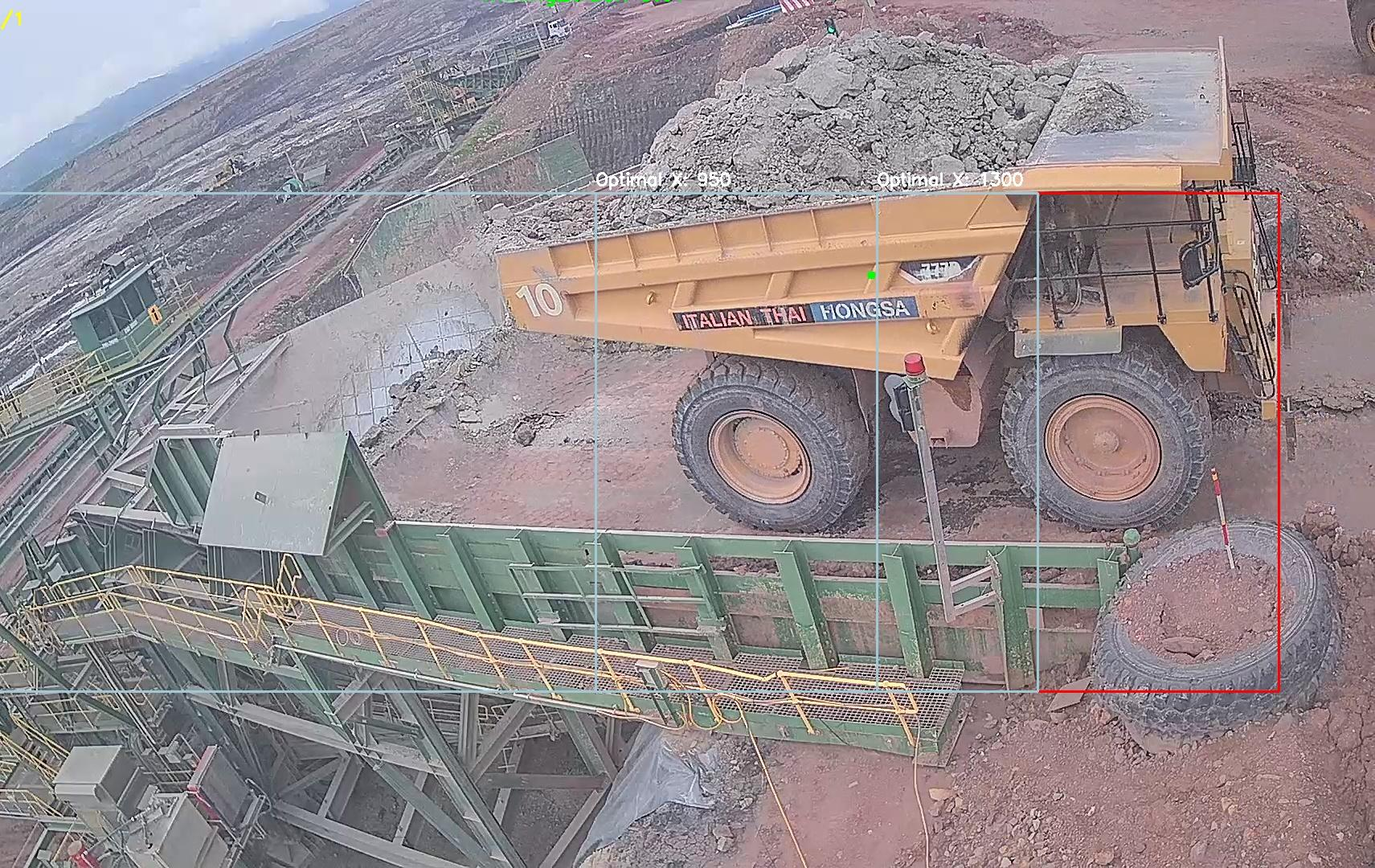company: (665, 290, 926, 338)
full_load: (681, 26, 1024, 215)
mining_truck: (481, 13, 1317, 533)
tail_number: (505, 271, 574, 332)
truck_size: (900, 250, 979, 286)
